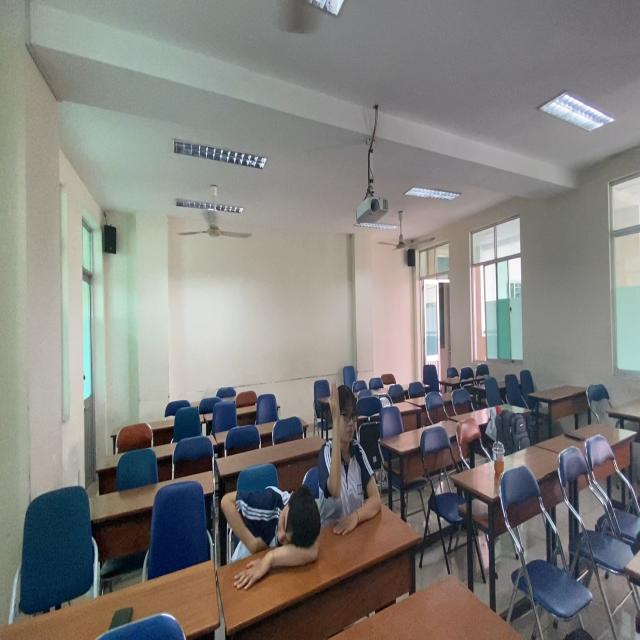raise_hand: (324, 372, 386, 540)
sleep: (217, 479, 328, 588)
